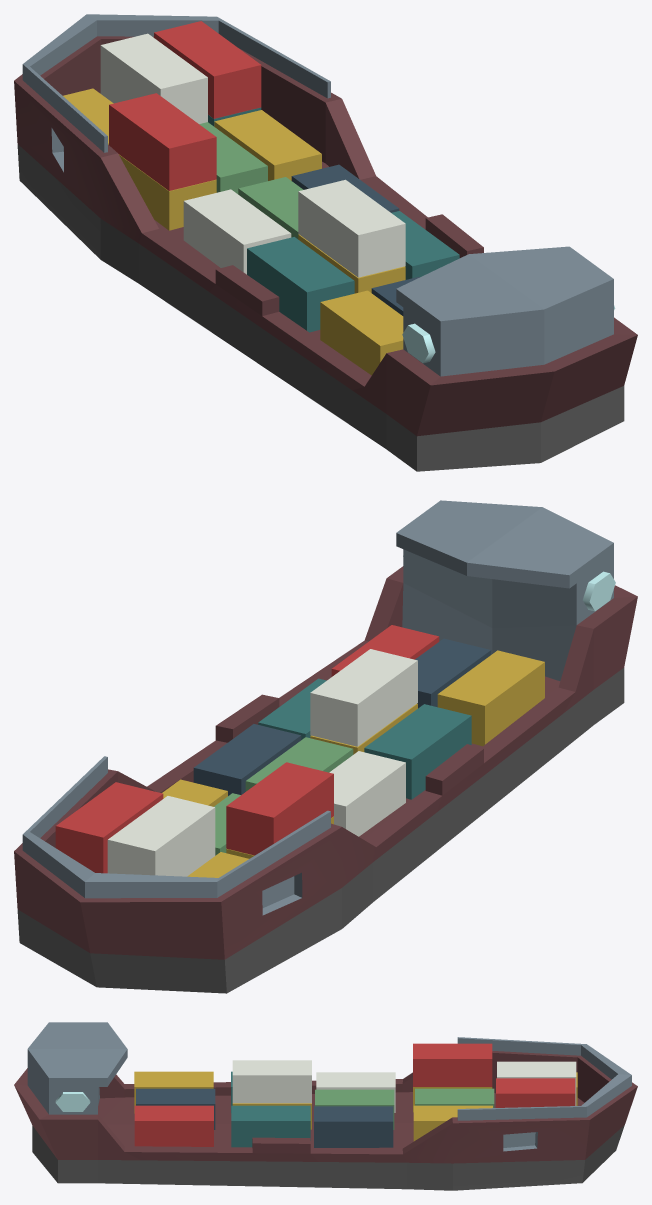
Rendered from freighter_model.fbx.
3 renders of one model, top to bottom at view 1: azimuth 30°, elevation 25°; view 2: azimuth 150°, elevation 25°; view 3: azimuth 270°, elevation 25°, orthographic. The views are drawn at different scales.
Visible parts, largest first — view 1: pCube25; view 2: pCube25; view 3: pCube25.
Boxes of the visible parts, bbox=[...] form: pCube25: bbox=[14, 14, 637, 471]; pCube25: bbox=[14, 500, 637, 993]; pCube25: bbox=[14, 1022, 637, 1190].
Bounding box in the file's own units: 7.13 × 4.41 × 24.16.
Materials: 1 (1 with a texture image).
